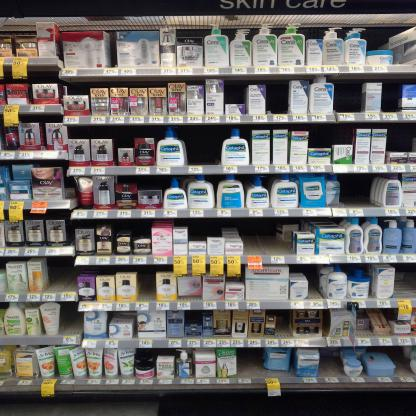Void: (242, 221, 286, 255), (382, 121, 416, 150), (191, 131, 216, 168), (61, 303, 85, 336), (52, 260, 77, 289), (395, 264, 413, 300), (235, 348, 258, 376), (346, 177, 370, 203), (134, 271, 152, 303), (338, 86, 358, 113), (224, 83, 247, 106), (270, 84, 288, 113), (384, 83, 400, 112), (71, 126, 108, 138), (370, 29, 392, 48), (141, 172, 159, 188), (190, 219, 202, 240), (310, 266, 316, 298), (118, 129, 129, 145)
